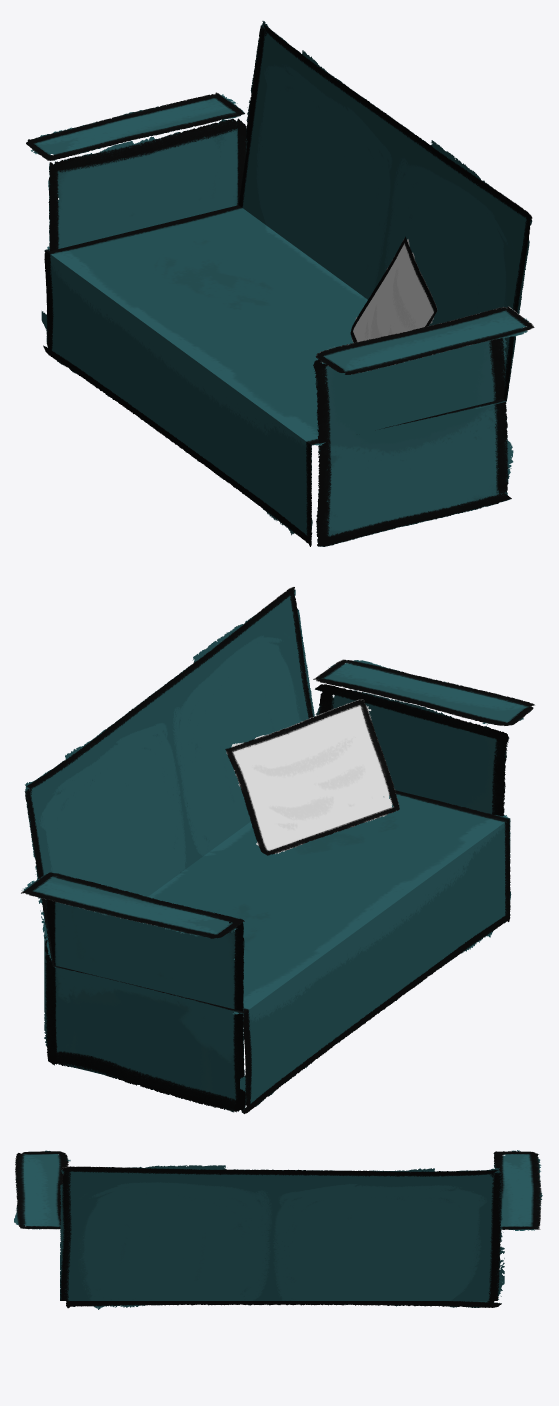
File: MSH_CanapeCoussin.fbx
3 renders of one model, top to bottom at view 1: azimuth 30°, elevation 25°; view 2: azimuth 150°, elevation 25°; view 3: azimuth 270°, elevation 25°, orthographic. The views are drawn at different scales.
Parts seen in each view (by area): view 1: MSH_Canapé, MSH_Coussin; view 2: MSH_Canapé, MSH_Coussin; view 3: MSH_Canapé.
Part boxes in pixels (<box>): MSH_Canapé: <box>26,21,534,546</box>; MSH_Coussin: <box>350,236,437,342</box>; MSH_Canapé: <box>21,587,534,1113</box>; MSH_Coussin: <box>225,699,399,855</box>; MSH_Canapé: <box>14,1150,542,1309</box>.
Size of the model in its own units: 1.16 by 1.44 by 2.96.
Materials: 1 (1 with a texture image).
